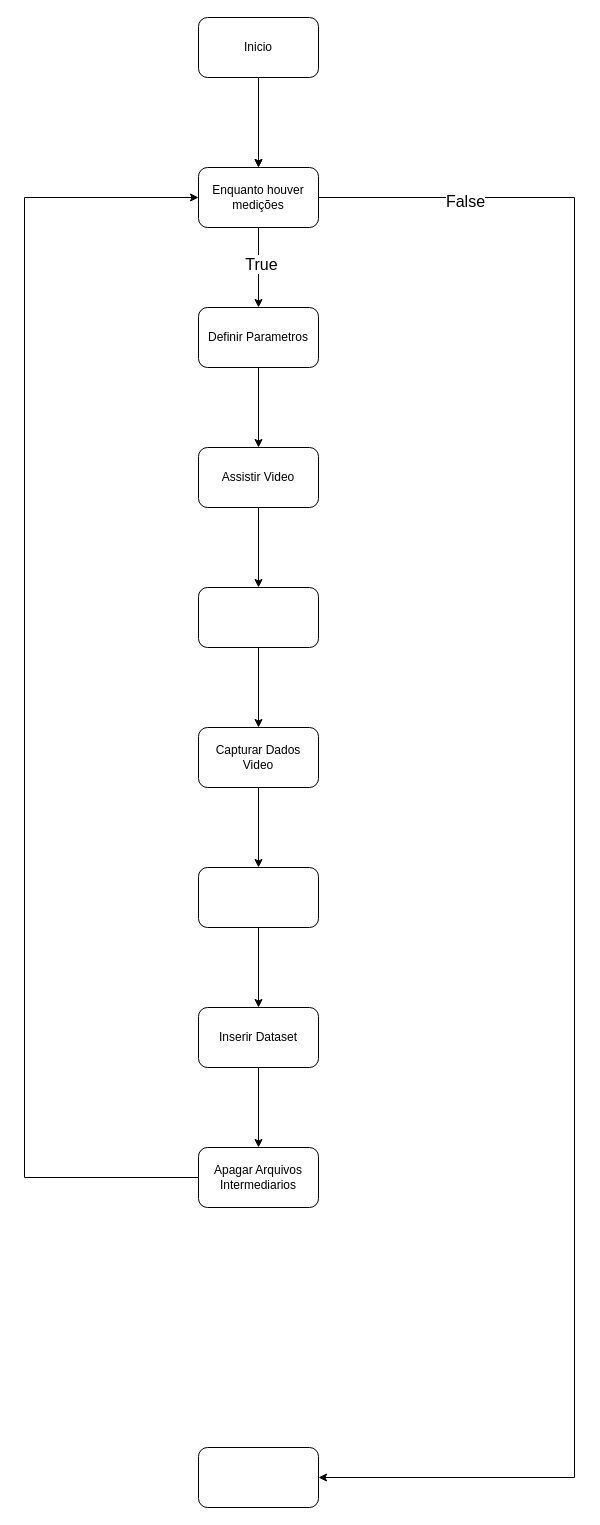
This 600x1525 diagram has some shape labels left out. The box of each missing label's shape, as (x1, y1, x2, y2) in pixels:
Capturar Dados da Rede do Cliente: (198, 866, 318, 928)
Fim: (198, 1446, 318, 1508)
Medir QoE: (198, 586, 318, 648)
